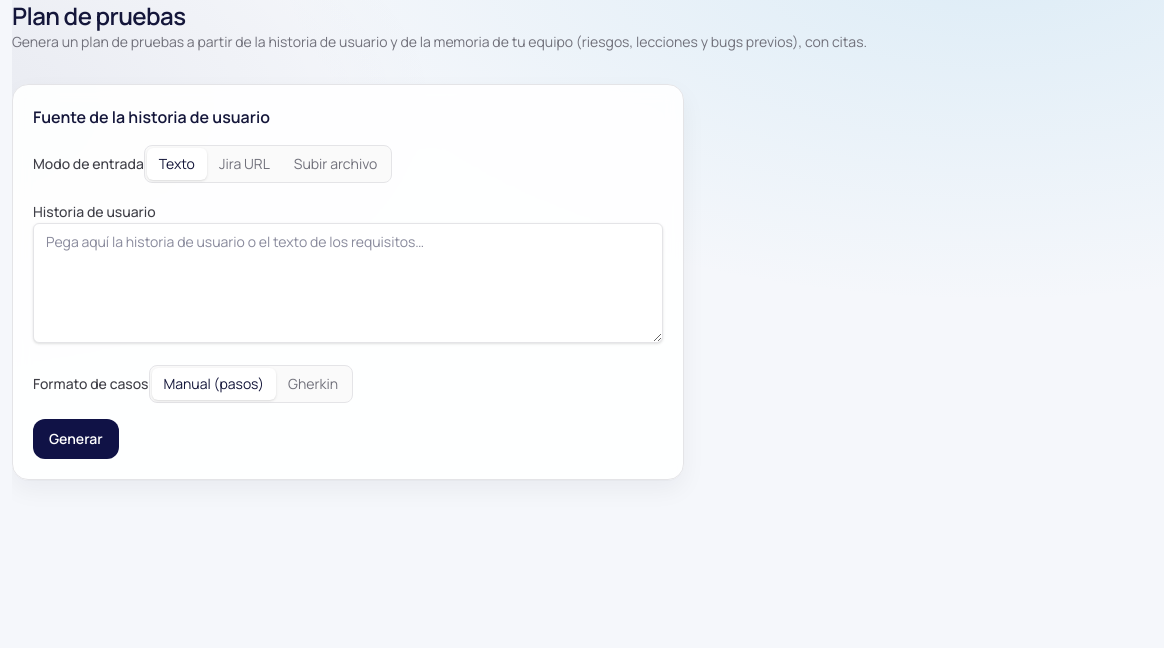
Scenario: TestPlanPage — Generar test Playwright por caso › muestra el código generado y los botones Descargar y Abrir draft PR
Replace the text in the text box with placeholder "Pega aquí la historia" with "HU playwright": (348, 283) left=33, top=223, right=663, bottom=343
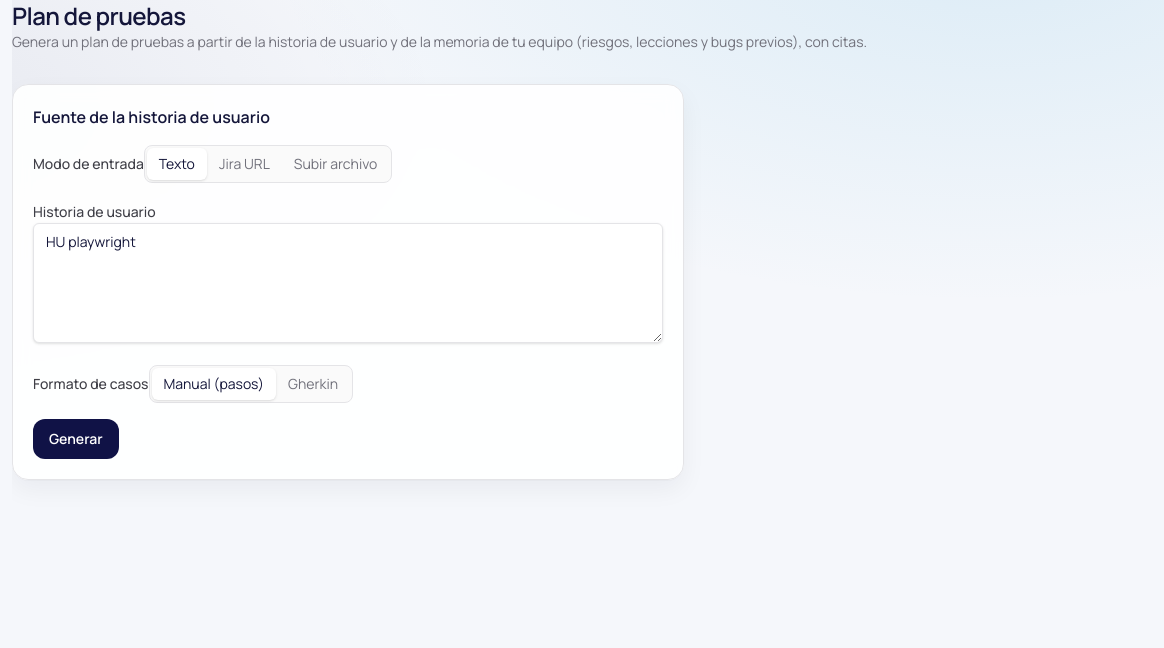
Click the button "Generar": (76, 439) left=33, top=419, right=119, bottom=459
(page scrolled)
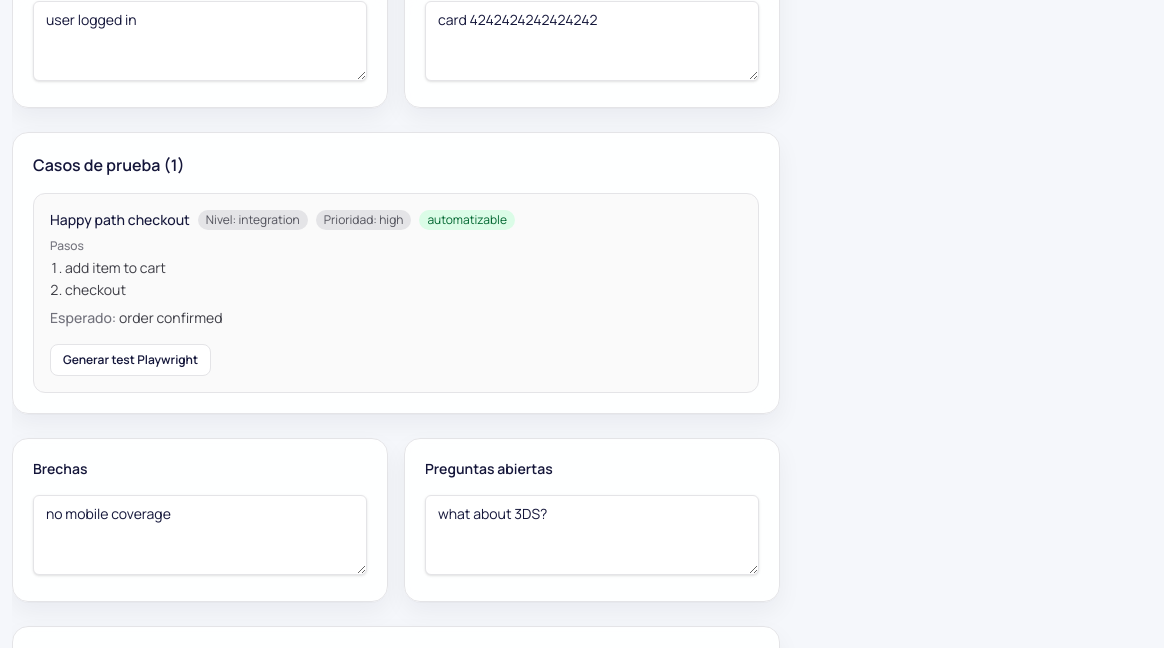
Expected: the text "Happy path checkout" is shown, left=50, top=210, right=190, bottom=230
Click the button "Generar test Playwright": (131, 360) left=50, top=344, right=211, bottom=376
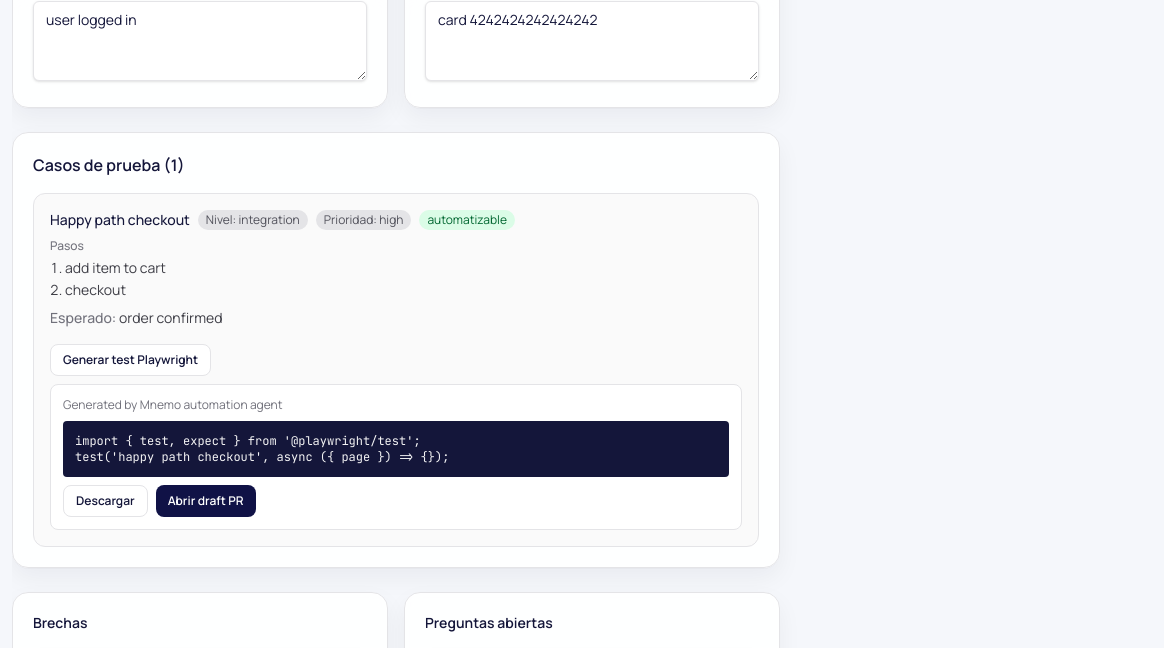
Expected: the text "Generated by Mnemo automation agent" is shown, left=63, top=396, right=282, bottom=413
Expected: the button "Descargar" is shown, left=63, top=485, right=148, bottom=517
Expected: the button "Abrir draft PR" is shown, left=156, top=485, right=256, bottom=517
